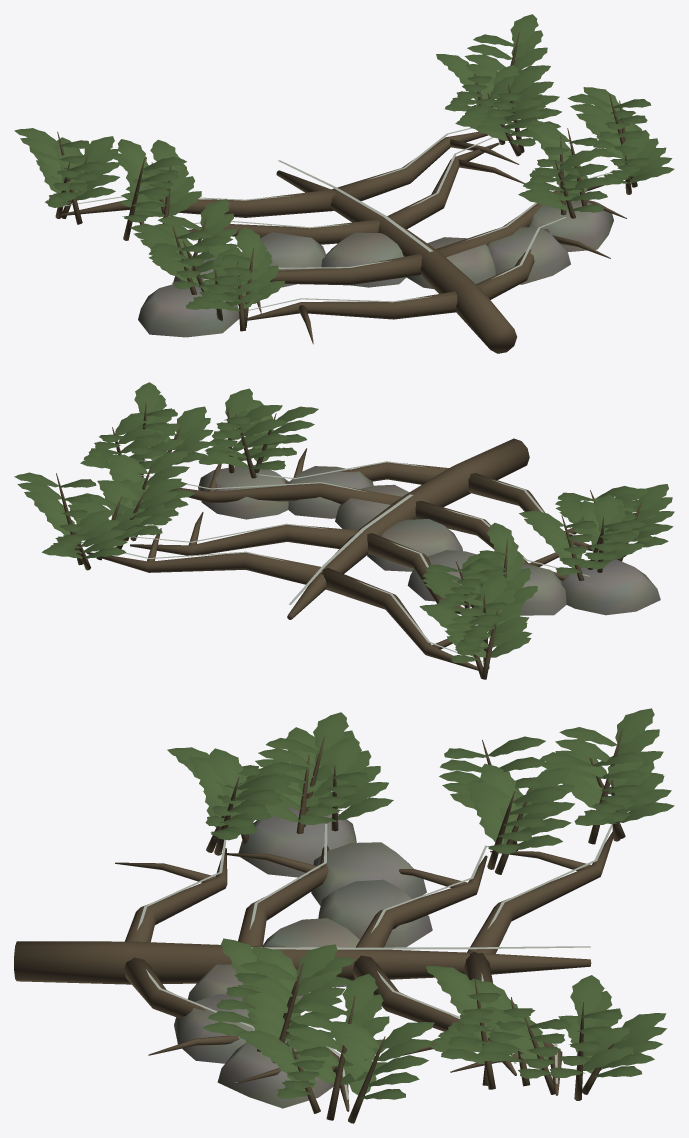
The model's file is white-brace.glb.
The picture shows the model from 3 angles, top to bottom: view 1: azimuth 30°, elevation 25°; view 2: azimuth 150°, elevation 25°; view 3: azimuth 270°, elevation 25°; orthographic projection. The views are drawn at different scales.
Visible parts, largest first — view 1: LAND04 white-brace; view 2: LAND04 white-brace; view 3: LAND04 white-brace.
Part boxes in pixels (bbox=[...]): LAND04 white-brace: bbox=[14, 14, 674, 353]; LAND04 white-brace: bbox=[14, 382, 674, 679]; LAND04 white-brace: bbox=[14, 708, 674, 1123].
Bounding box in the file's own units: 5.07 × 0.934 × 4.26.
